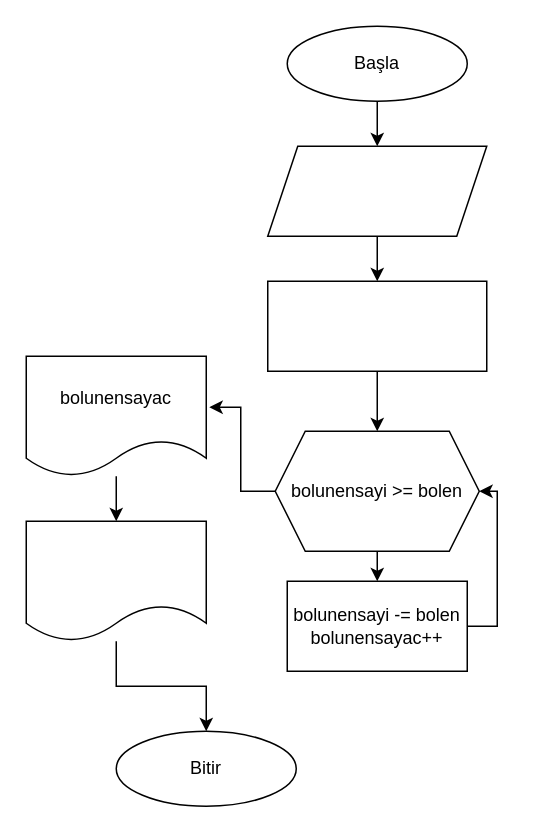
This 536x833 diagram has some shape labels left out. The shapes that lost their labels are listed below. From the top down, each one's centre as x and y in pixels, then its label:
point 376,190: let bolunen let bolen
point 376,325: let bolunensayac = 0 let bolunensayi = bolunen
point 115,580: bolunensayi
